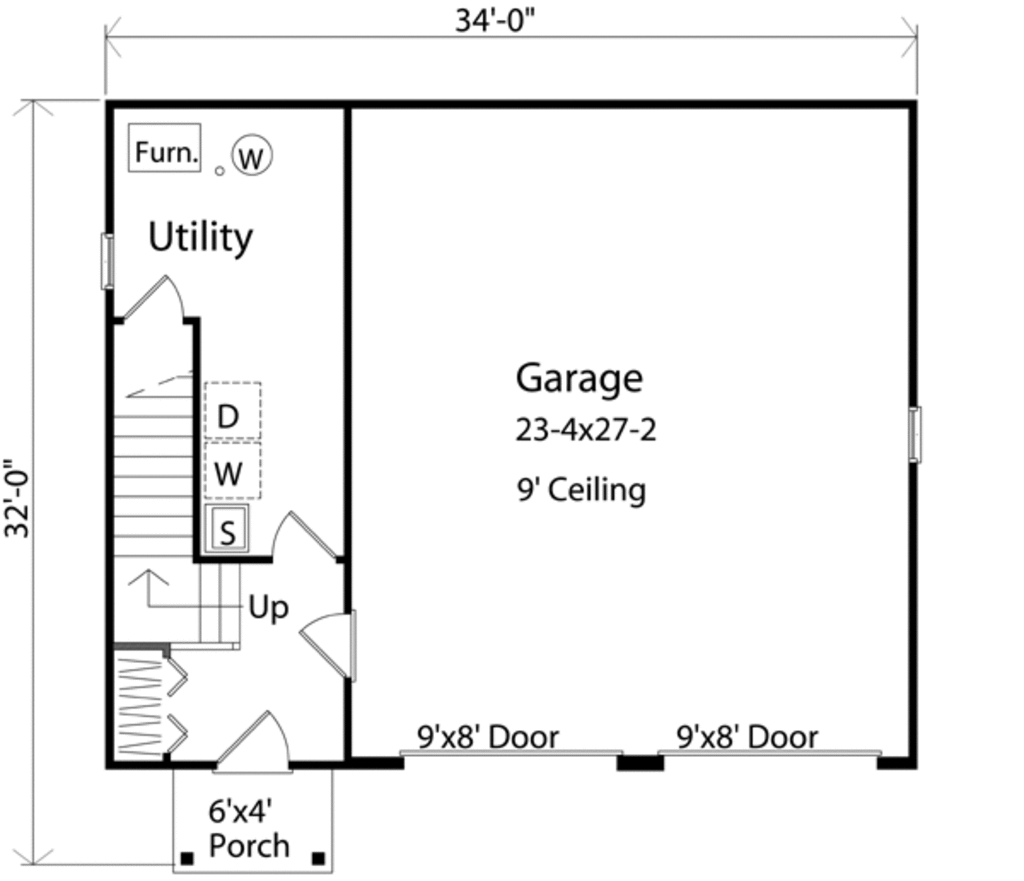door: (199, 693, 311, 781), (291, 600, 365, 688), (252, 504, 344, 563), (107, 266, 200, 321)
stairs: (114, 323, 250, 644)
window: (100, 234, 130, 297), (910, 399, 929, 467)
